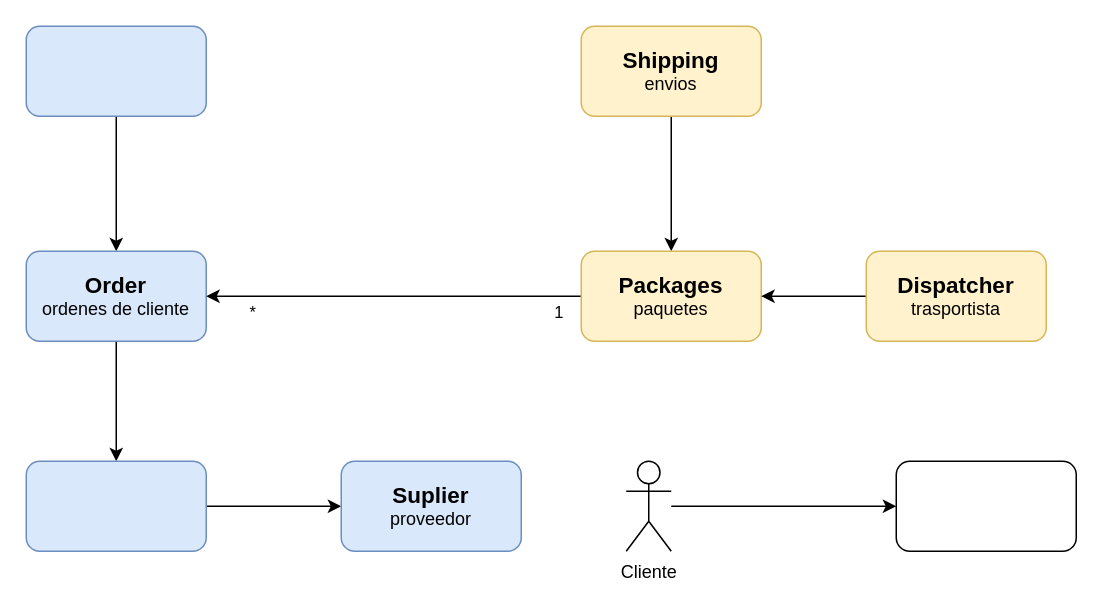
Image size: 1103x609. Some labels were removed from this diagram. Each missing label, with the centre of its shape:
Product productos: pixel 115 505
Purchase Compras: pixel 115 70
Trnsactions debit/credit: pixel 985 505
